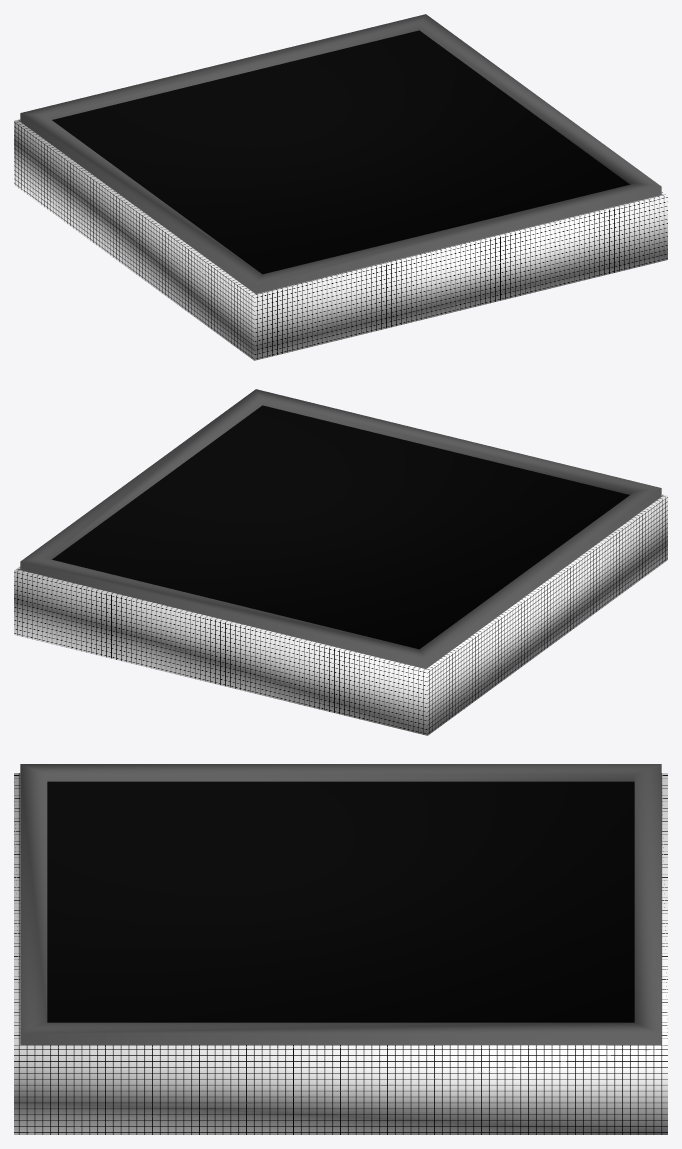
File: dance floor.fbx
3 renders of one model, top to bottom at view 1: azimuth 30°, elevation 25°; view 2: azimuth 150°, elevation 25°; view 3: azimuth 270°, elevation 25°, orthographic. The views are drawn at different scales.
Visible parts, largest first — view 1: dance_floor; view 2: dance_floor; view 3: dance_floor.
Boxes of the visible parts, box(x1,y1,x2,y2) form: dance_floor: box(14, 14, 667, 360); dance_floor: box(14, 389, 667, 735); dance_floor: box(14, 764, 667, 1134).
Size of the model in its own units: 97.28 by 16.31 by 97.88.
5 materials, 1 textured.
